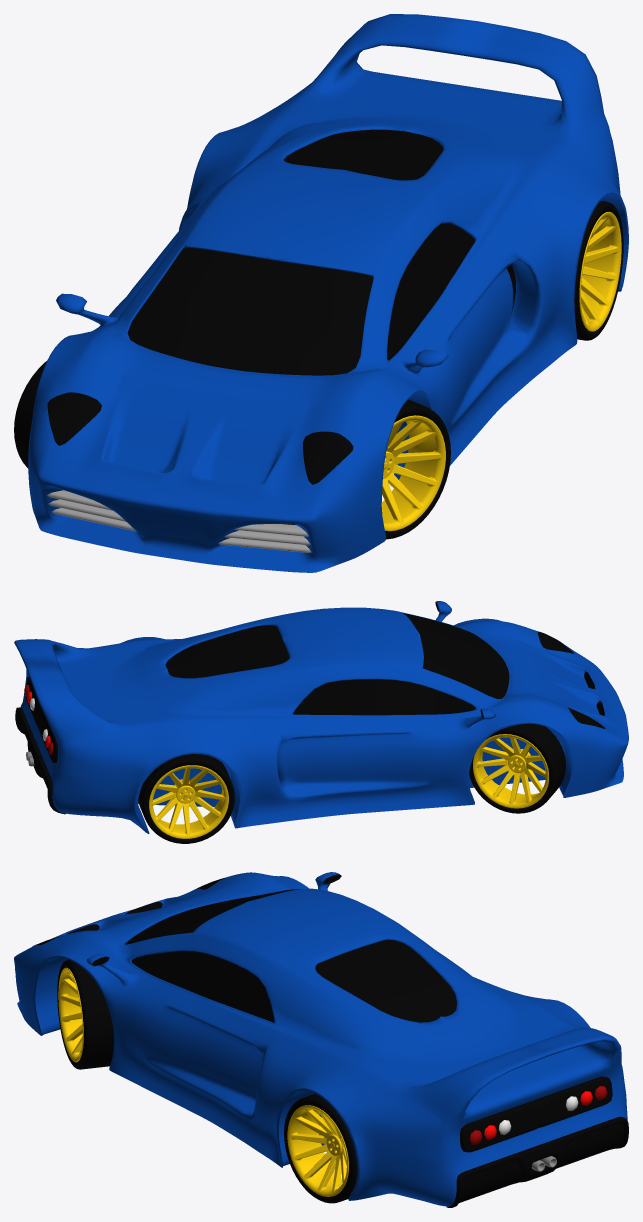
Rendered from dorifto2.gltf.
3 renders of one model, top to bottom at view 1: azimuth 30°, elevation 25°; view 2: azimuth 150°, elevation 25°; view 3: azimuth 270°, elevation 25°, orthographic. The views are drawn at different scales.
Parts seen in each view (by area): view 1: Windows, amatsi_wheel.002, amatsi_wheel.001, amatsi_wheel; view 2: Windows, amatsi_wheel, amatsi_wheel.001; view 3: Windows, amatsi_wheel.001, amatsi_wheel.002.
Boxes of the visible parts, bbox=[...] form: Windows: bbox=[28, 14, 628, 572]; amatsi_wheel.002: bbox=[381, 399, 450, 539]; amatsi_wheel.001: bbox=[574, 200, 623, 340]; amatsi_wheel: bbox=[14, 361, 46, 468]; Windows: bbox=[14, 601, 628, 833]; amatsi_wheel: bbox=[469, 723, 565, 813]; amatsi_wheel.001: bbox=[138, 754, 234, 843]; Windows: bbox=[14, 872, 628, 1207]; amatsi_wheel.001: bbox=[284, 1093, 357, 1203]; amatsi_wheel.002: bbox=[57, 959, 113, 1069].
Size of the model in its own units: 4.13 by 1.13 by 3.78.
